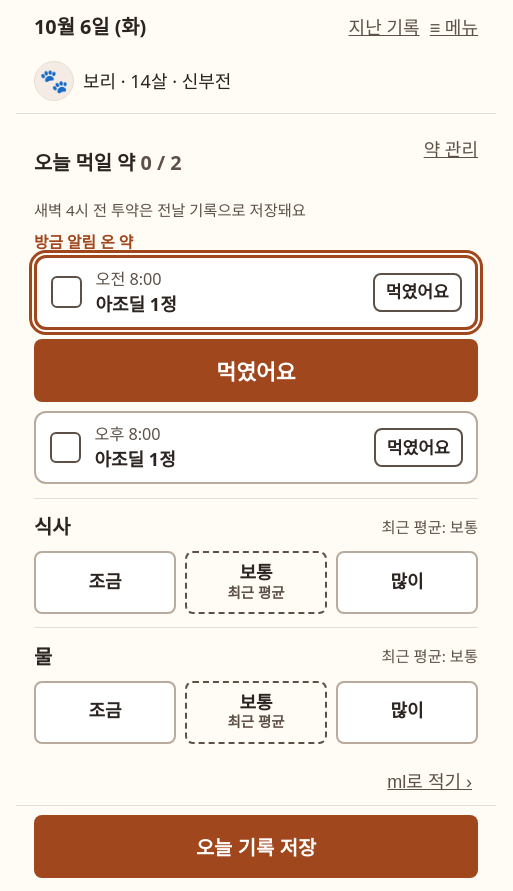
Test: 오늘 화면 큰 버튼 — QA 경계 › 같은 약의 다른 회차: 한 회차를 큰 버튼으로 체크하면 큰 버튼이 같은 약의 "다음 회차"로 옮겨 가지 않는다
Click the button with aria-label "오전 8:00 먹였어요 체크" at {"x": 256, "y": 370}, box [34,339,478,402]
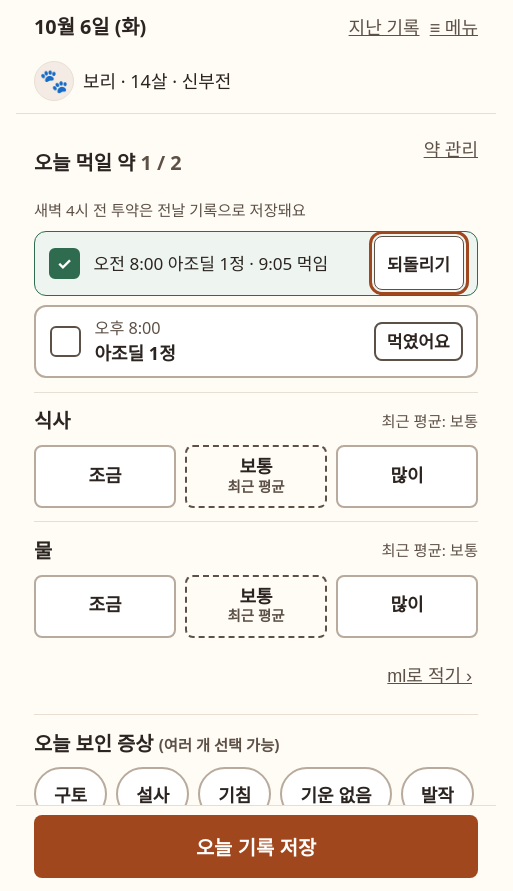
Expected: the button "되돌리기" is shown, [374,236,464,290]
